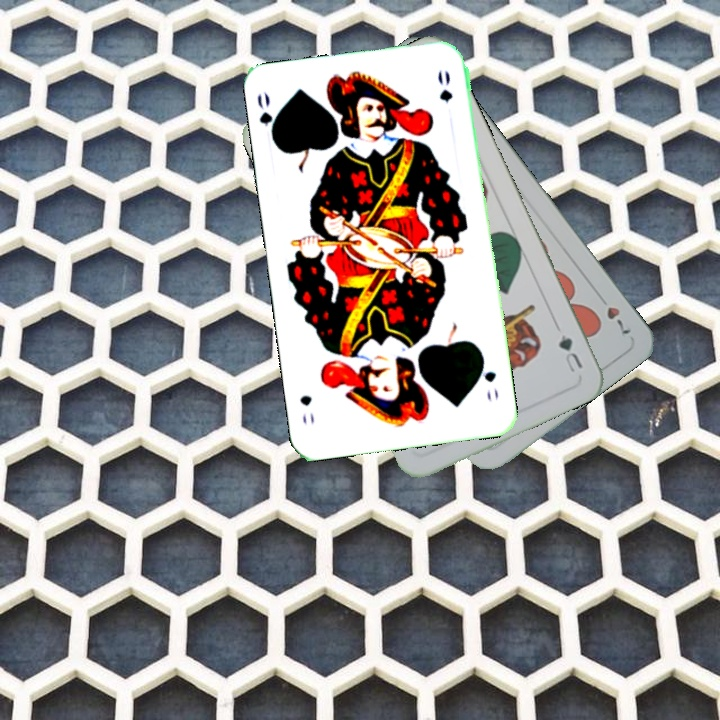GO: (253, 88, 282, 147), (476, 352, 501, 405)
GU: (554, 330, 586, 376)
H7: (593, 289, 634, 337)
